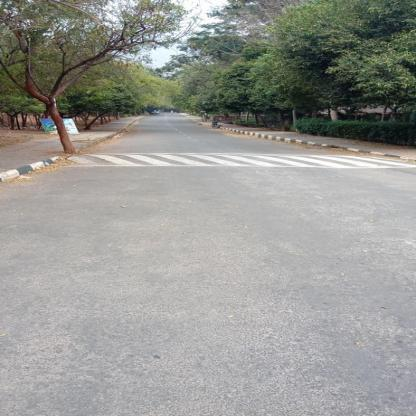speed-bumps: (61, 150, 413, 168)
